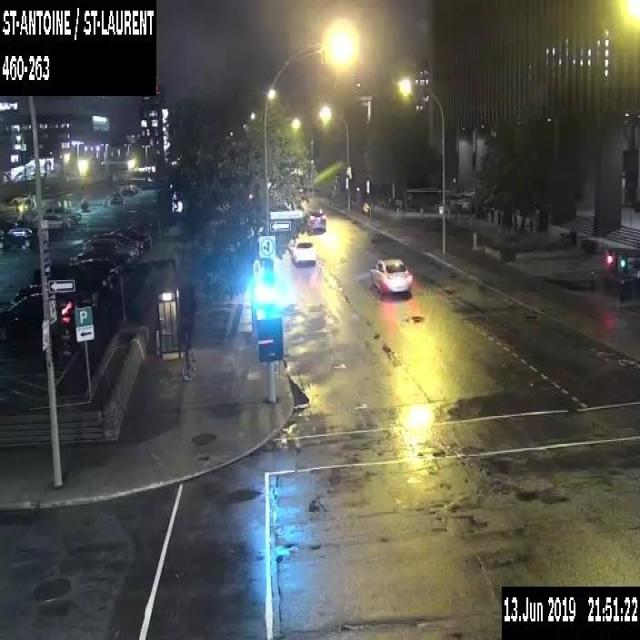vehicle: (0, 291, 79, 345), (8, 283, 98, 321), (34, 260, 114, 297), (369, 256, 412, 296), (84, 237, 139, 265), (82, 232, 144, 256), (69, 246, 133, 269), (109, 226, 151, 248), (44, 206, 81, 226), (33, 212, 74, 230), (291, 236, 316, 265), (4, 226, 32, 249), (307, 211, 326, 232), (101, 191, 123, 206), (121, 184, 138, 196)
